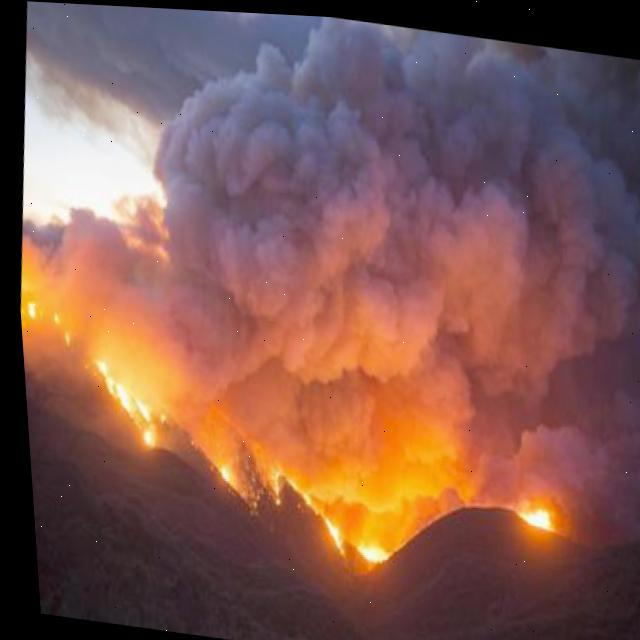fire: (302, 486, 417, 566), (86, 351, 160, 455), (507, 494, 548, 531)
smoke: (16, 13, 640, 542)
